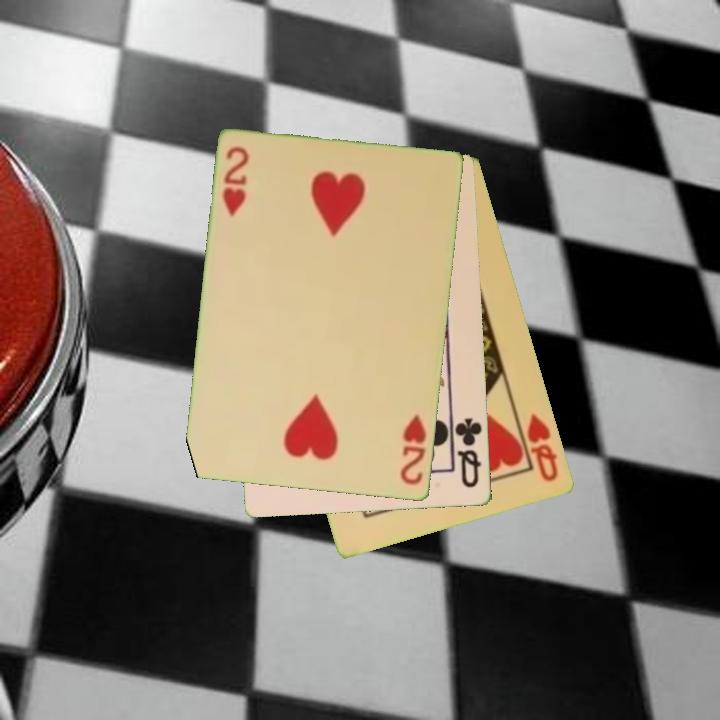2h: (397, 411, 430, 488), (219, 144, 252, 220)
Qc: (449, 412, 485, 491)
Qh: (515, 410, 561, 485)
